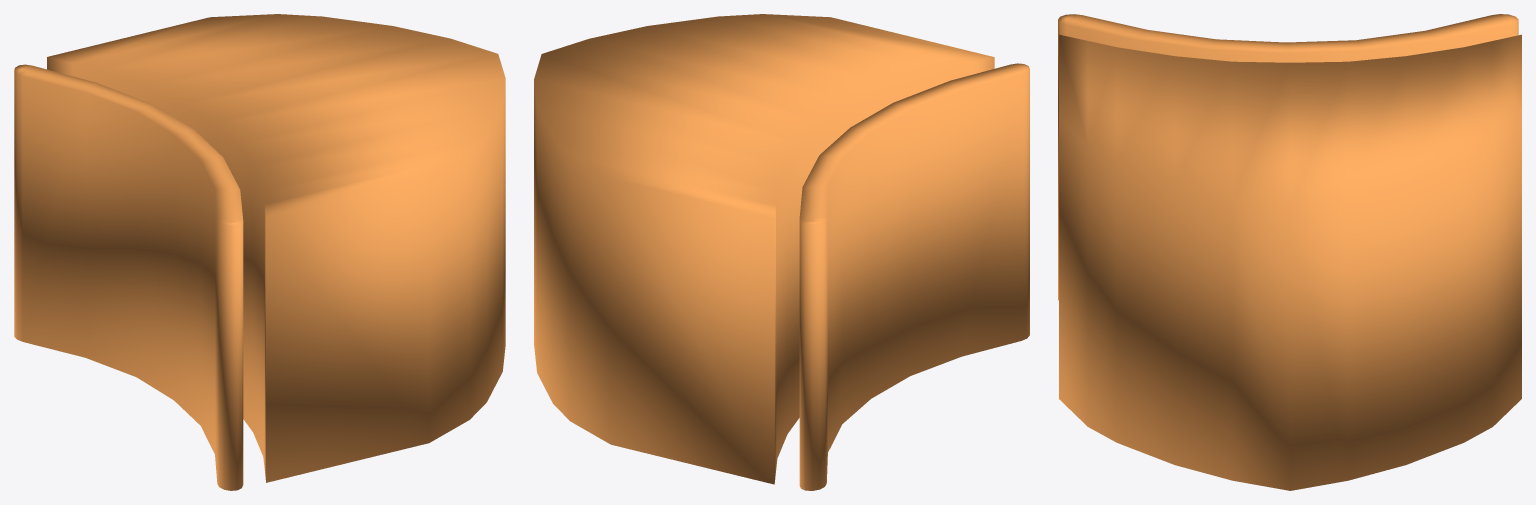
Rendered from XOR.glb.
3 renders of one model, left to right at view 1: azimuth 30°, elevation 25°; view 2: azimuth 150°, elevation 25°; view 3: azimuth 270°, elevation 25°, orthographic. The views are drawn at different scales.
Parts seen in each view (by area): view 1: 6; view 2: 6; view 3: 6.
Boxes of the visible parts, <box> form: 6: <box>14,14,505,490</box>; 6: <box>534,14,1029,490</box>; 6: <box>1058,14,1521,490</box>.
Bounding box in the file's own units: 3.01 × 2 × 3.
